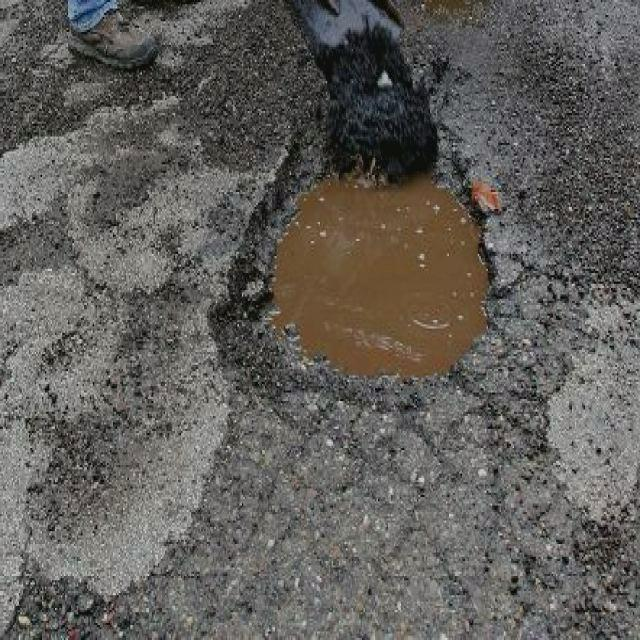Pothole: (207, 107, 504, 427)
